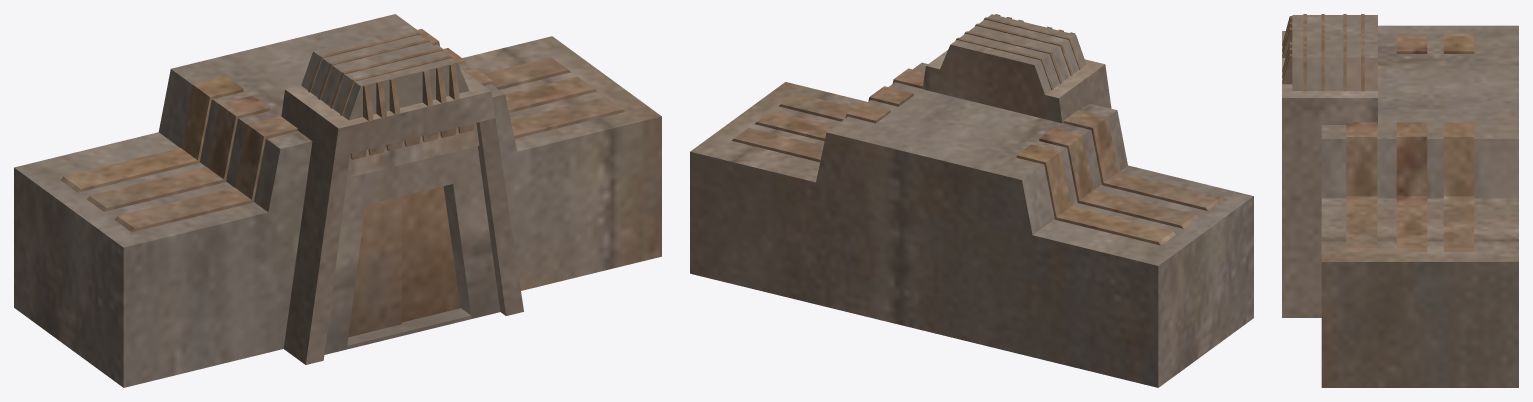
Rendered from xi_dsp_market_gate.gltf.
3 renders of one model, left to right at view 1: azimuth 30°, elevation 25°; view 2: azimuth 150°, elevation 25°; view 3: azimuth 270°, elevation 25°, orthographic. The views are drawn at different scales.
Parts seen in each view (by area): view 1: xi_dsp_market_gate; view 2: xi_dsp_market_gate; view 3: xi_dsp_market_gate.
Boxes of the visible parts, left/top/right/bottom form: xi_dsp_market_gate: left=14, top=14, right=661, bottom=387; xi_dsp_market_gate: left=690, top=14, right=1253, bottom=387; xi_dsp_market_gate: left=1282, top=14, right=1518, bottom=387.
Size of the model in its own units: 27.4 by 12.69 by 11.62.
3 materials, 3 textured.
